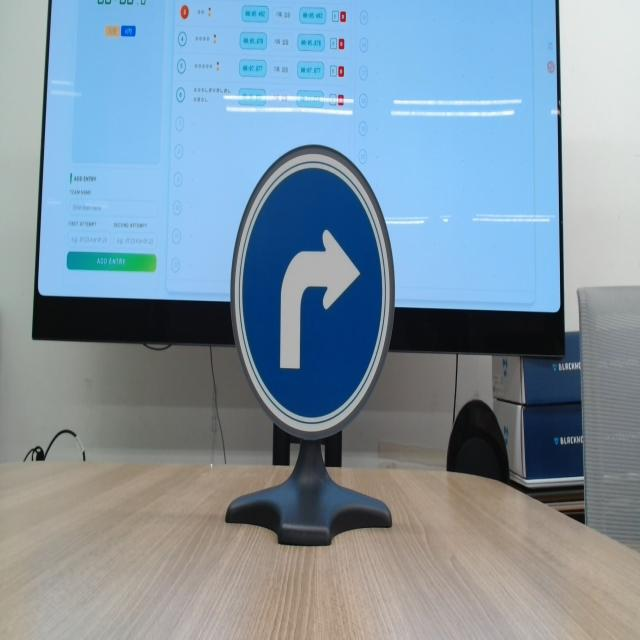right_dierection: (223, 139, 404, 458)
